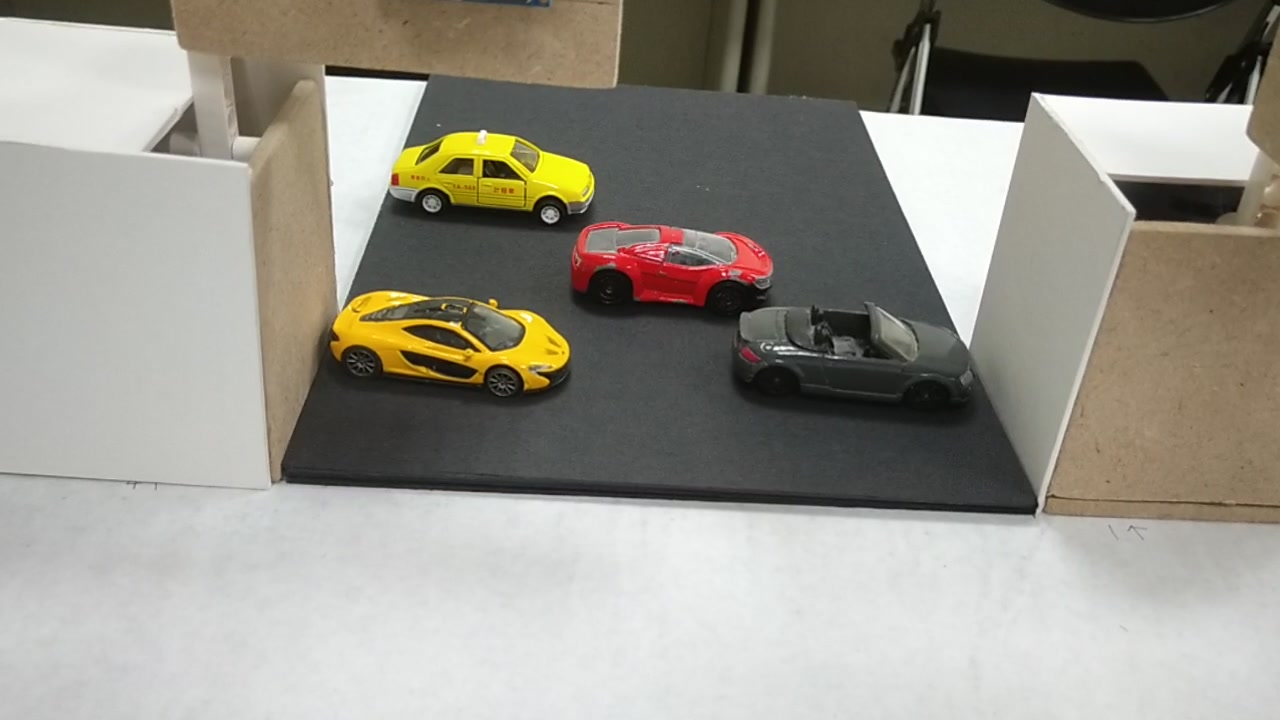car: (725, 307, 971, 415), (326, 294, 569, 395), (567, 221, 776, 309), (389, 139, 596, 224)
